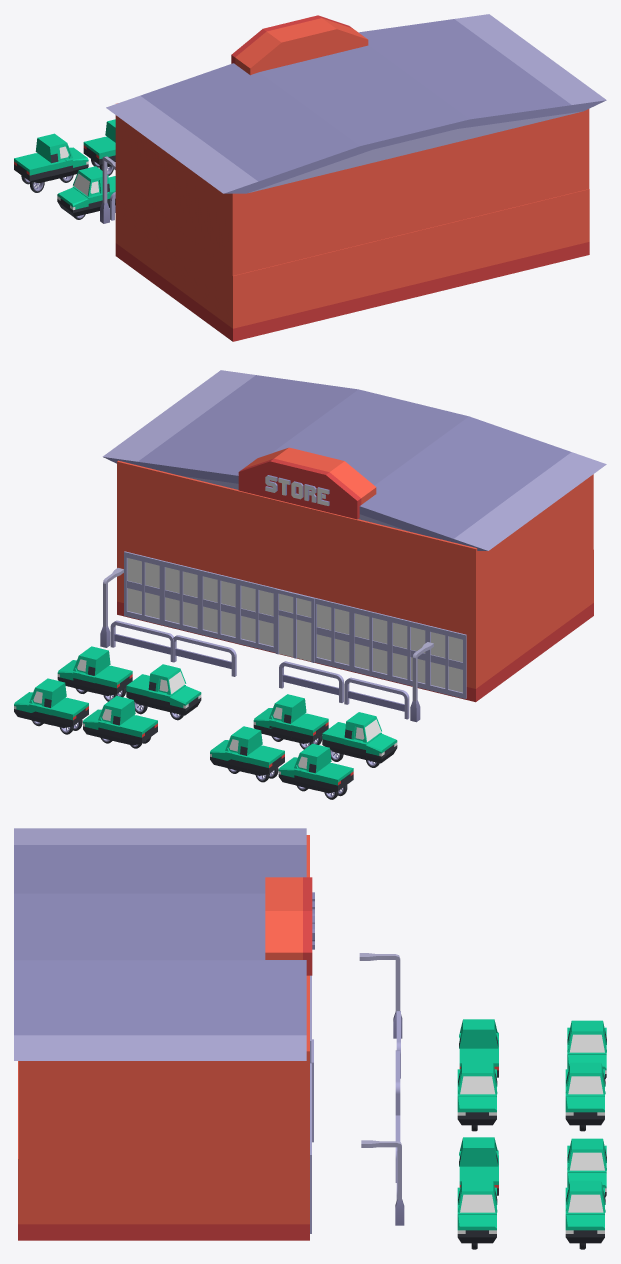
Rendered from supermarket.glb.
3 renders of one model, top to bottom at view 1: azimuth 30°, elevation 25°; view 2: azimuth 150°, elevation 25°; view 3: azimuth 270°, elevation 25°, orthographic. The views are drawn at different scales.
Visible parts, largest first — view 1: mergedBlocks(Clone); view 2: mergedBlocks(Clone); view 3: mergedBlocks(Clone).
Part boxes in pixels (left/top/right/bottom): mergedBlocks(Clone): left=14, top=14, right=606, bottom=341; mergedBlocks(Clone): left=14, top=370, right=606, bottom=799; mergedBlocks(Clone): left=14, top=828, right=606, bottom=1249.
Bounding box in the file's own units: 1.22 × 0.6466 × 1.32.
